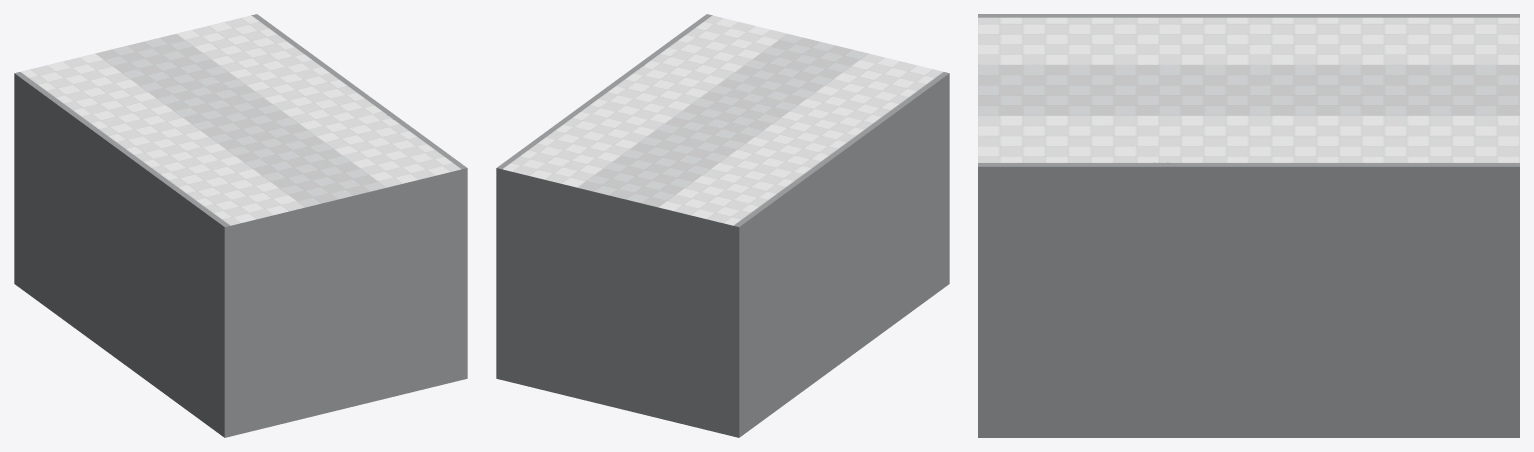
Rendered from RunnerPlatform_V2-Half.fbx.
The picture shows the model from 3 angles, left to right: view 1: azimuth 30°, elevation 25°; view 2: azimuth 150°, elevation 25°; view 3: azimuth 270°, elevation 25°; orthographic projection. The views are drawn at different scales.
Parts seen in each view (by area): view 1: RunnerPlatform_V1_Half; view 2: RunnerPlatform_V1_Half; view 3: RunnerPlatform_V1_Half.
Boxes of the visible parts, left/top/right/bottom form: RunnerPlatform_V1_Half: left=14, top=14, right=467, bottom=437; RunnerPlatform_V1_Half: left=496, top=14, right=949, bottom=437; RunnerPlatform_V1_Half: left=978, top=14, right=1519, bottom=437.
Bounding box in the file's own units: 398 × 330 × 598.
